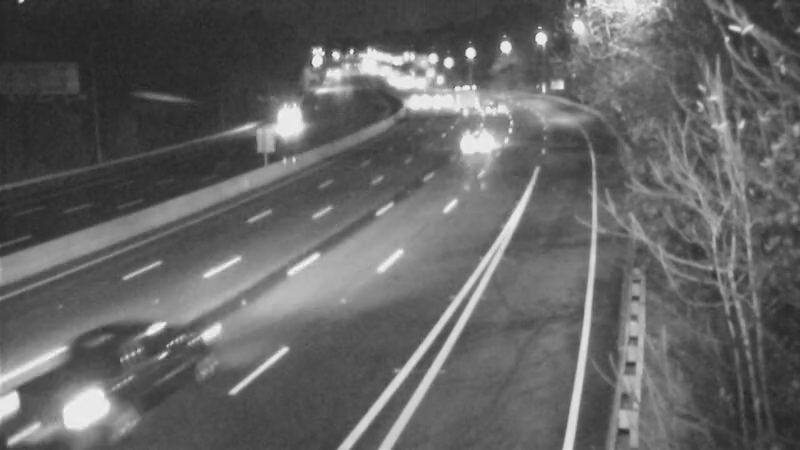vehicle: (3, 347, 113, 450), (393, 75, 443, 125), (440, 64, 490, 114), (464, 82, 514, 132), (462, 113, 512, 163), (252, 104, 302, 154)
